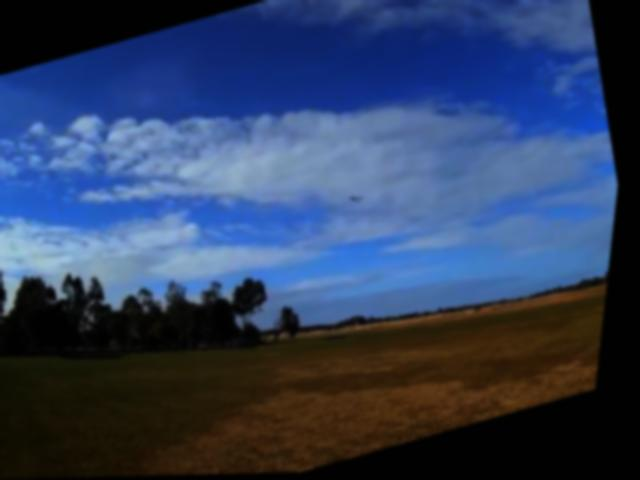uav: (340, 180, 385, 217)
